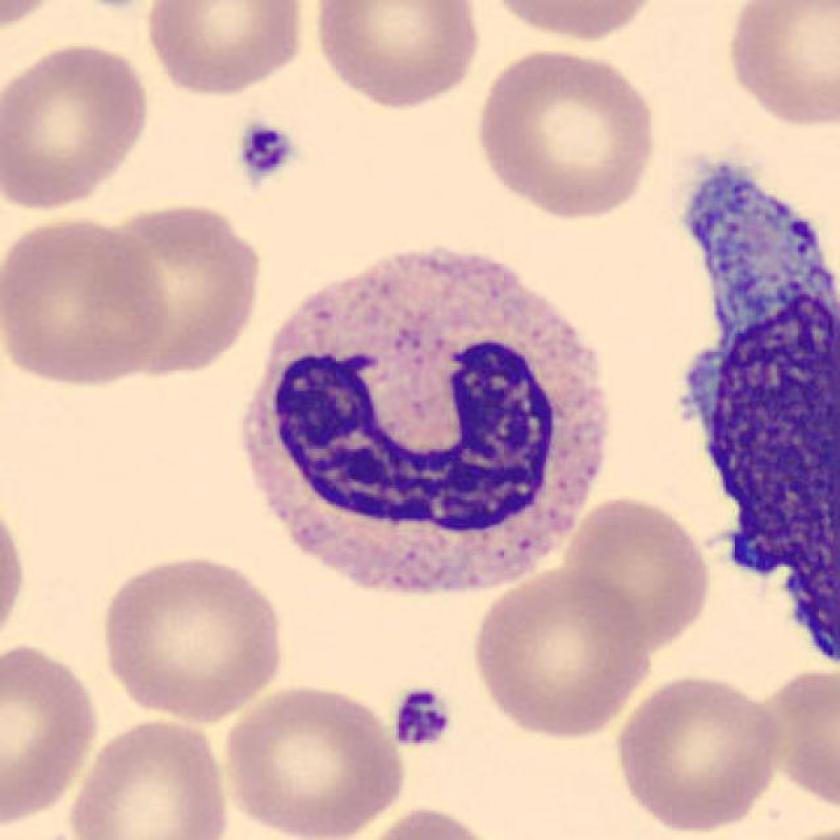neutrophil: (240, 252, 607, 593)
